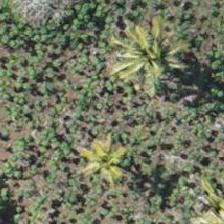coconut_tree: (104, 21, 194, 111), (62, 122, 152, 212)
